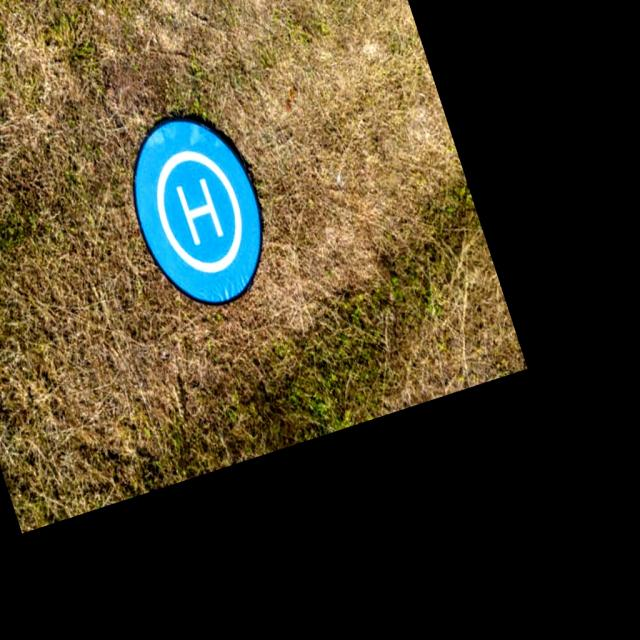helipad: (152, 145, 246, 276)
